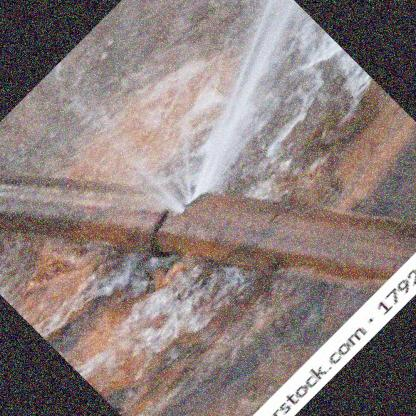burst: (169, 173, 229, 226)
